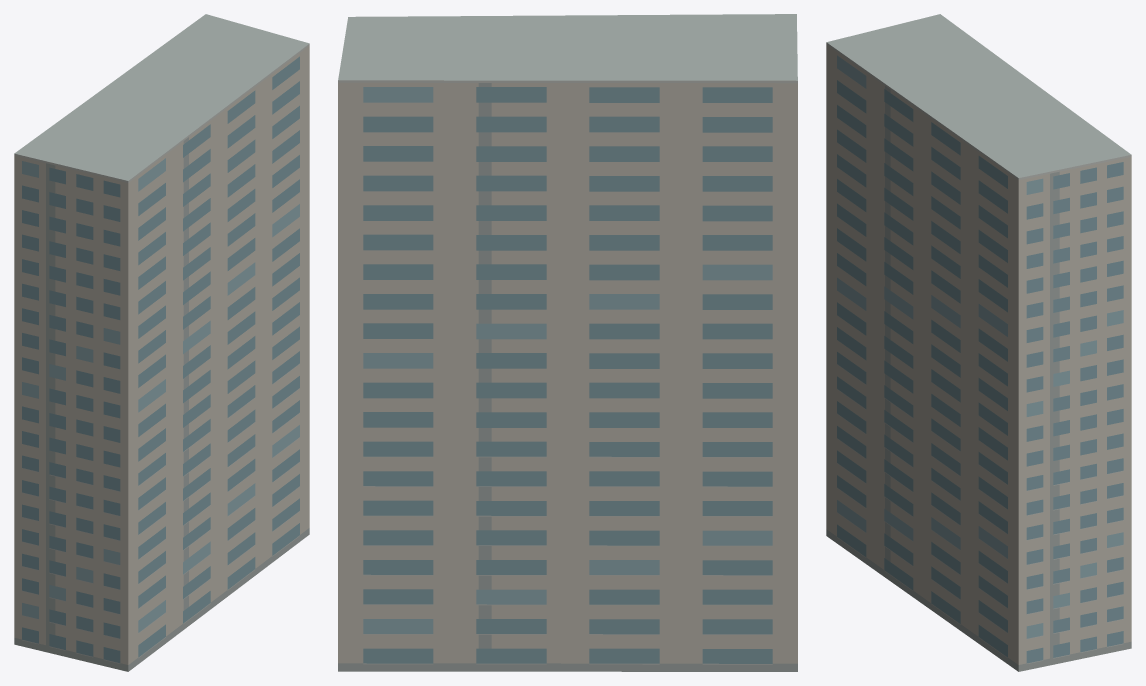
File: residential-4fabd3aa-8907-4e77-9793-ef47be224a78.glb
3 renders of one model, left to right at view 1: azimuth 30°, elevation 25°; view 2: azimuth 150°, elevation 25°; view 3: azimuth 270°, elevation 25°, orthographic. The views are drawn at different scales.
Parts seen in each view (by area): view 1: residential-4fabd3aa-8907-4e77-9793-ef47be224a78.tmp; view 2: residential-4fabd3aa-8907-4e77-9793-ef47be224a78.tmp; view 3: residential-4fabd3aa-8907-4e77-9793-ef47be224a78.tmp.
Part boxes in pixels (x1=…): residential-4fabd3aa-8907-4e77-9793-ef47be224a78.tmp: x1=14, y1=14, x2=309, y2=671; residential-4fabd3aa-8907-4e77-9793-ef47be224a78.tmp: x1=338, y1=14, x2=797, y2=671; residential-4fabd3aa-8907-4e77-9793-ef47be224a78.tmp: x1=826, y1=14, x2=1131, y2=671.
Bounding box in the file's own units: 43.51 × 61 × 34.19.
